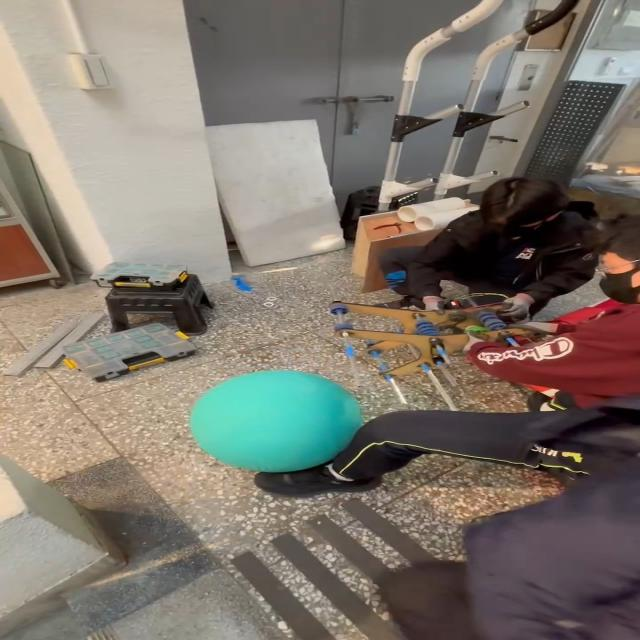ALGAE: (186, 369, 364, 473)
